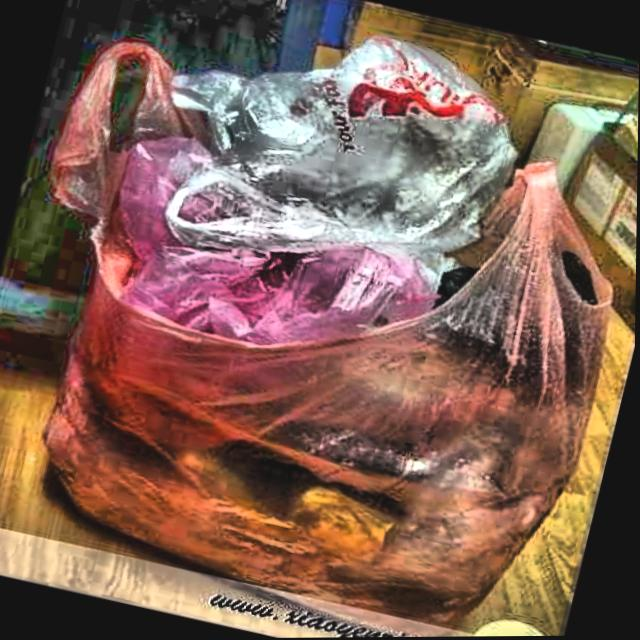Plastic: (0, 14, 640, 640), (136, 0, 523, 310)
